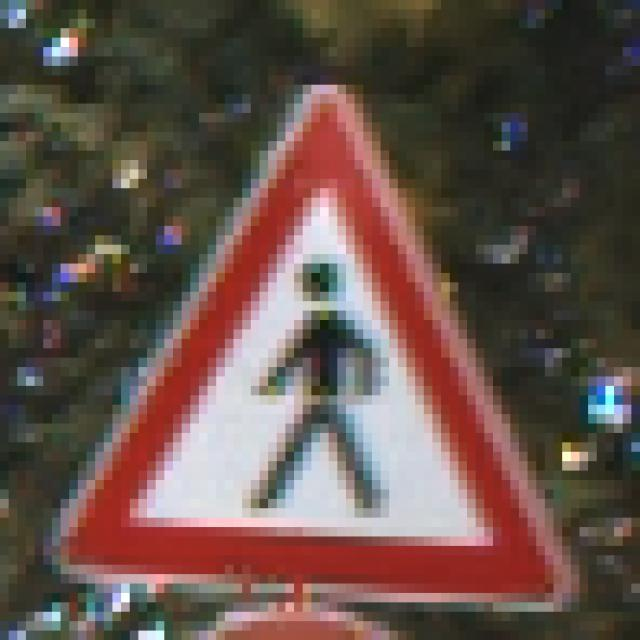pedestrian crossing: (50, 84, 559, 595)
